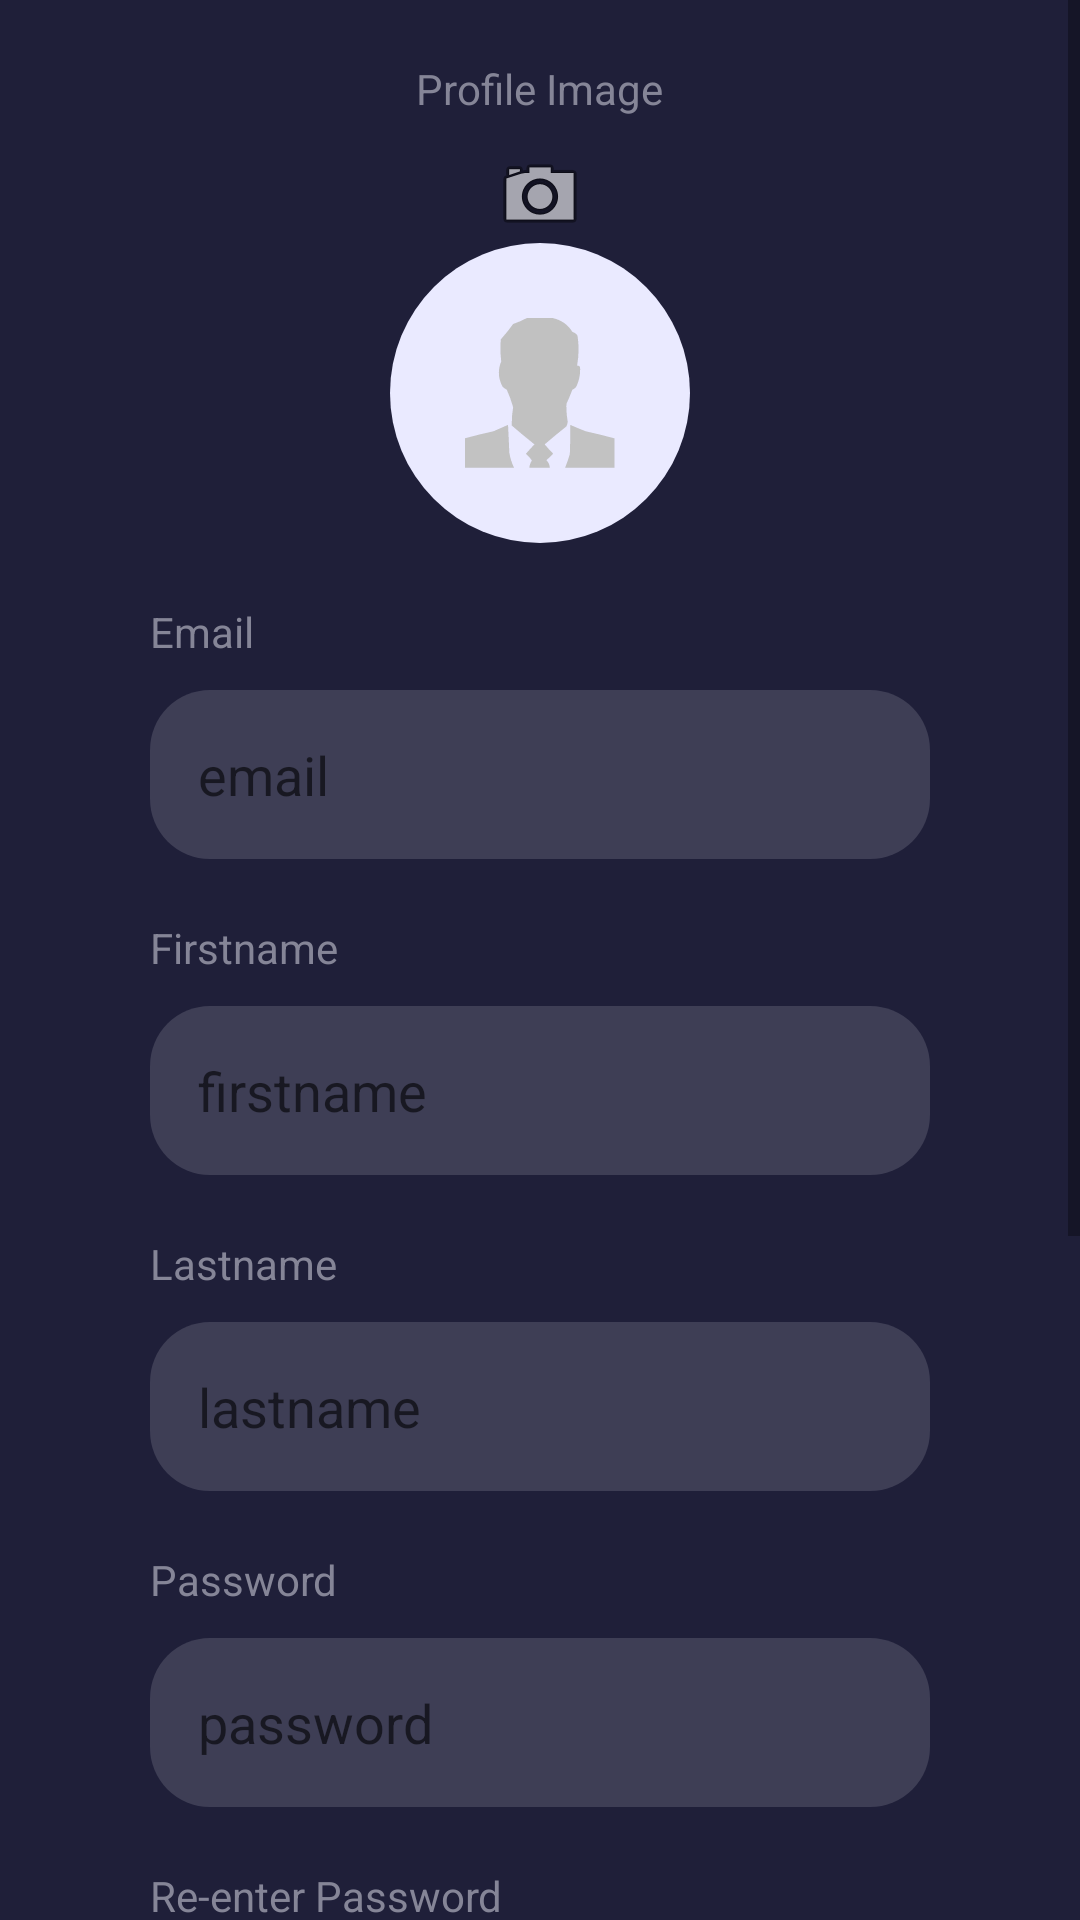

Named icons in this screenshot (1080*1920) and their centers, (x=x, y=y):
avatar: (x=540, y=393)
camera: (x=540, y=193)
